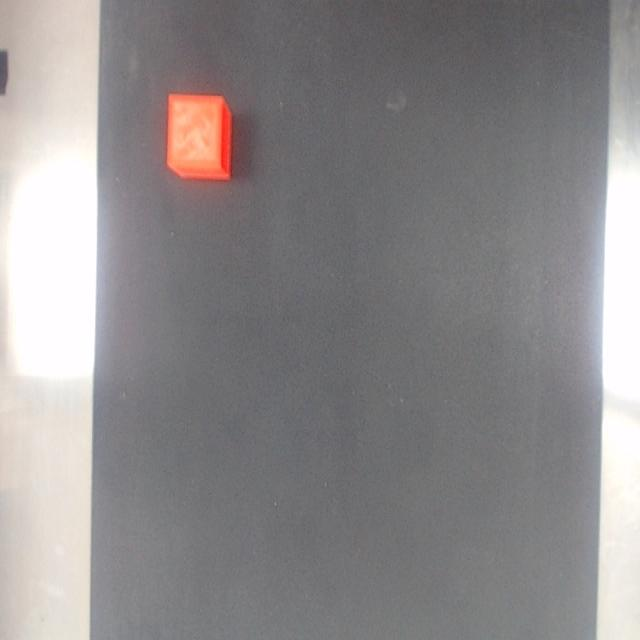Rojo: (167, 93, 231, 179)
